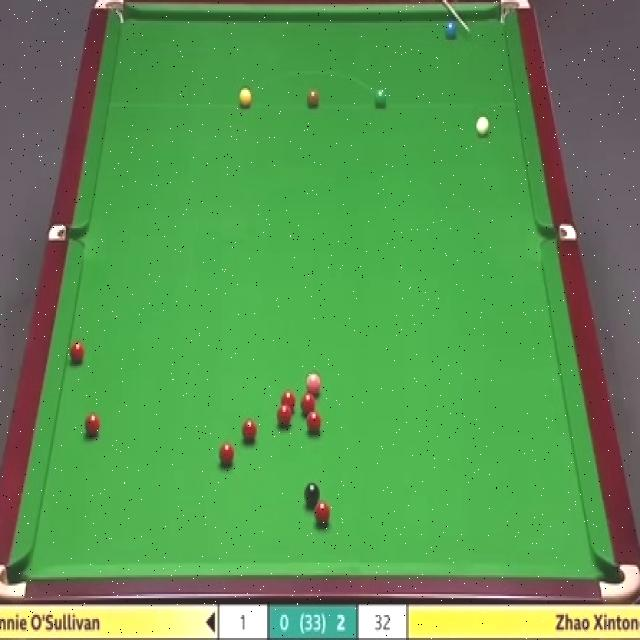black-ball: (303, 482, 321, 512)
blue-ball: (444, 17, 459, 42)
brown-ball: (306, 89, 321, 110)
green-ball: (373, 88, 388, 110)
pink-ball: (302, 371, 322, 396)
red-ball: (82, 409, 101, 440), (218, 442, 236, 471), (314, 501, 332, 527), (241, 418, 258, 442), (306, 409, 322, 434), (276, 404, 292, 429), (68, 340, 84, 365), (279, 390, 297, 412), (300, 393, 316, 414)
white-ball: (473, 114, 491, 138)
yellow-ball: (238, 87, 252, 109)
